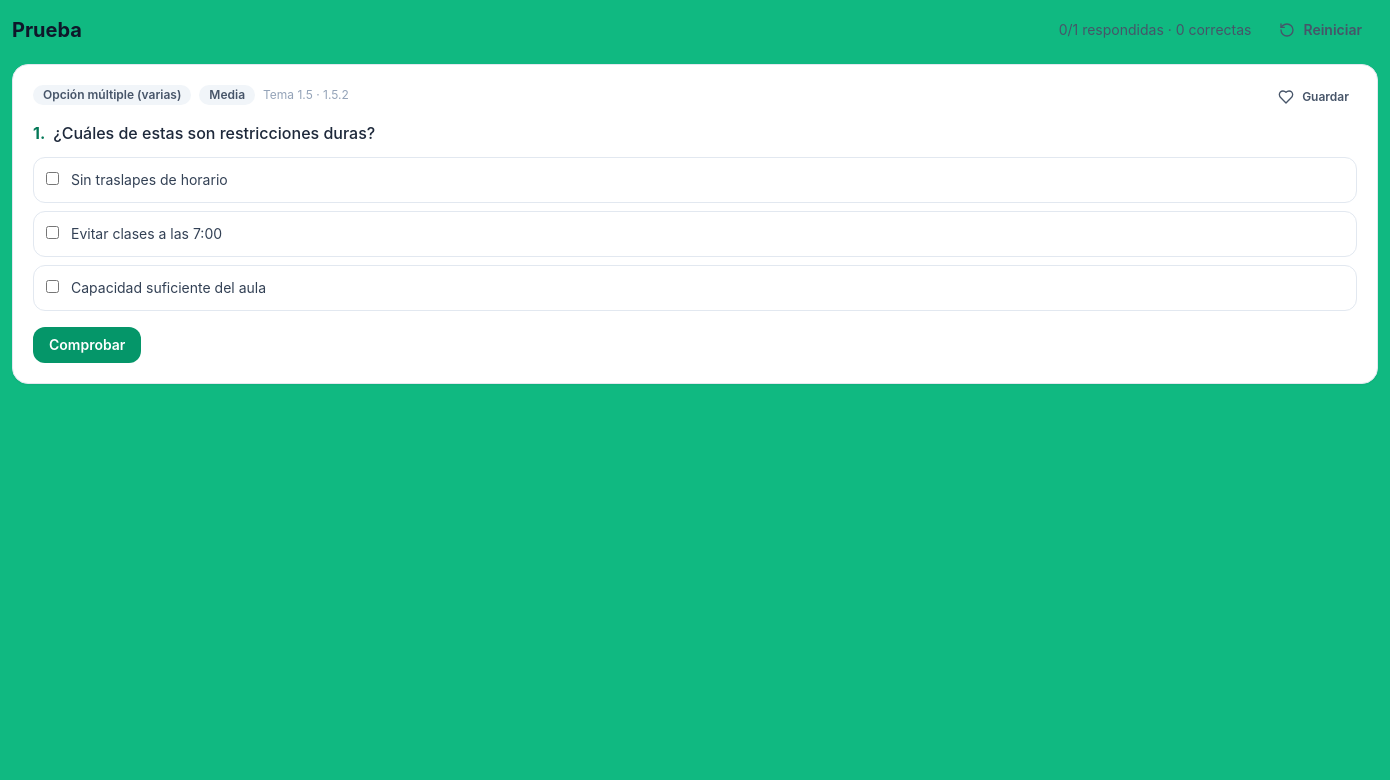
QuizSet › marca la opción que falló sin listar todas las correctas (opción múltiple)
The width and height of the screenshot is (1390, 780).
Click the checkbox labelled "Sin traslapes de horario" at (52,178), box [46,172,59,185]
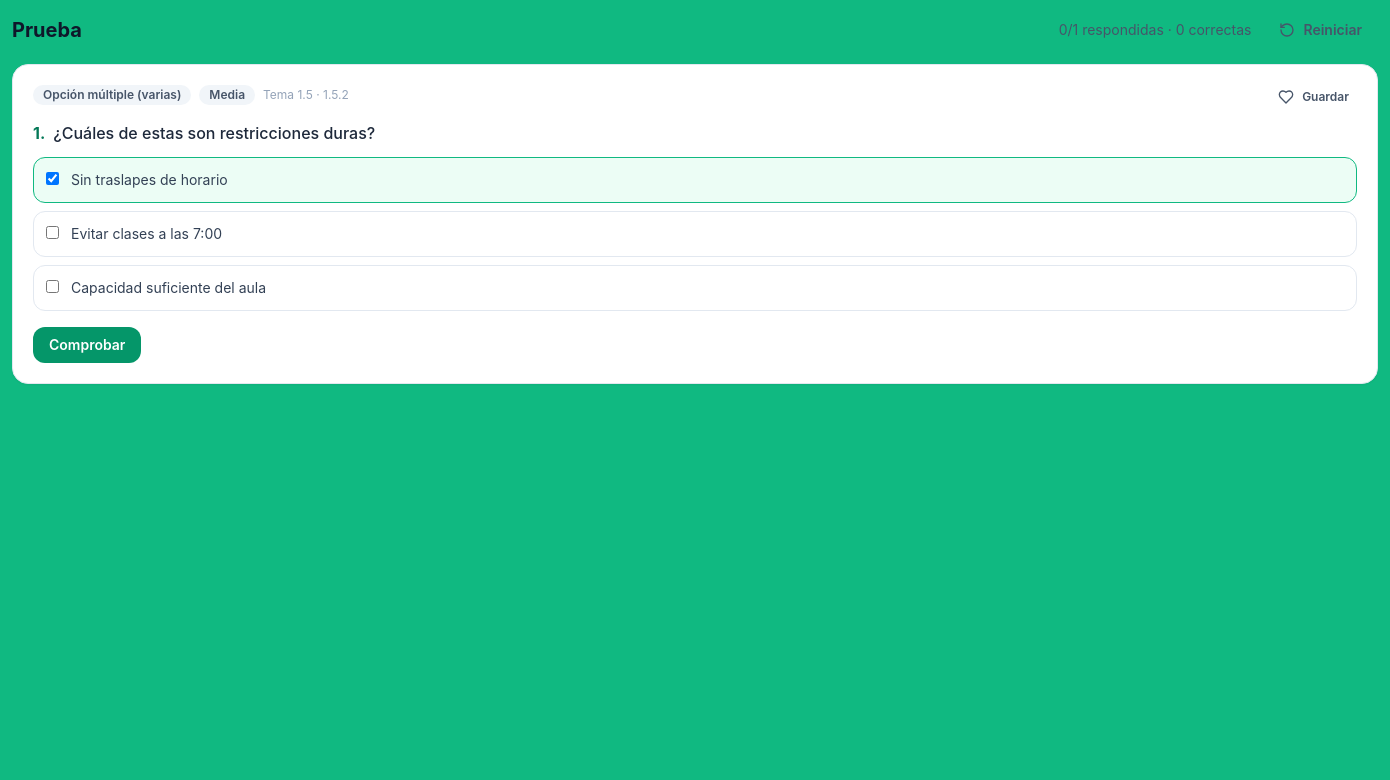
Click the checkbox labelled "Evitar clases a las 7:00" at (52,232), box [46,226,59,239]
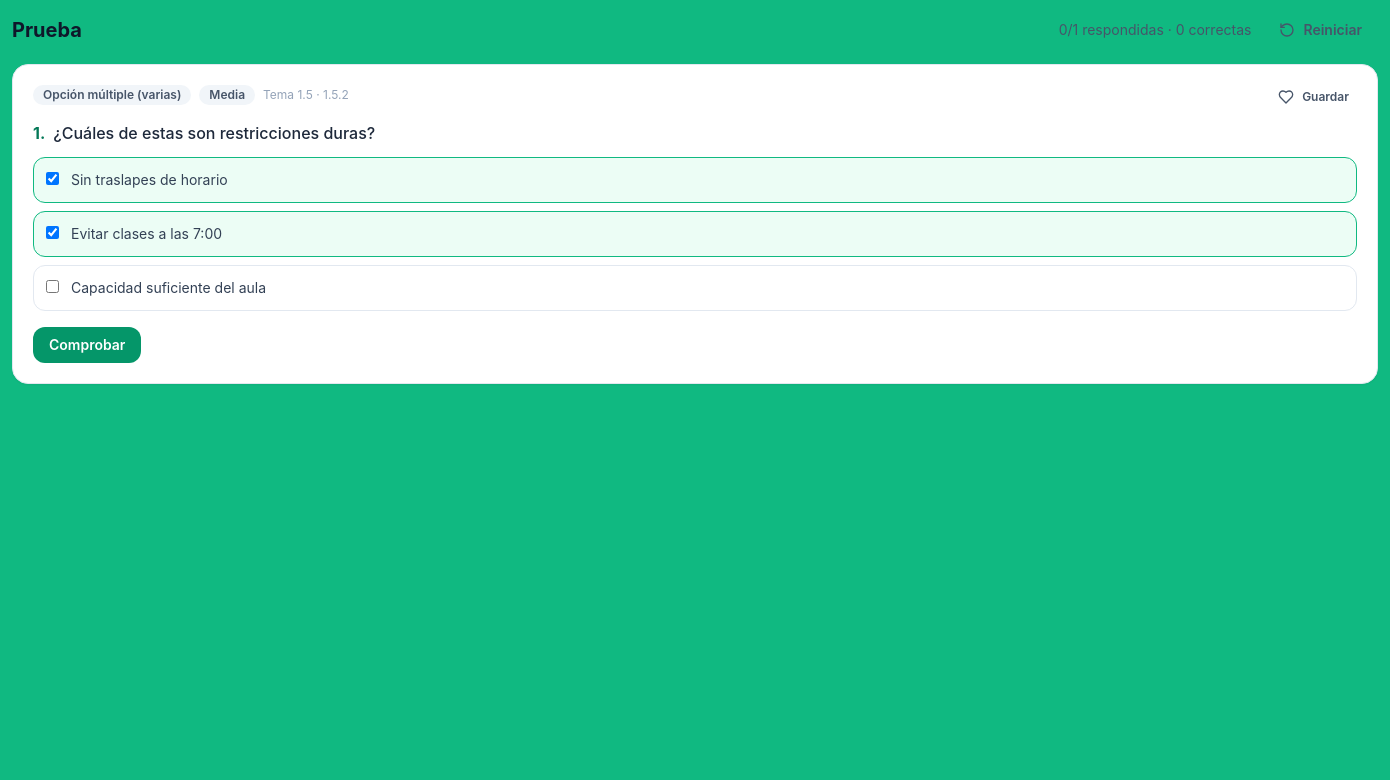
Click the button "Comprobar" at (87,345), box [33,327,141,363]
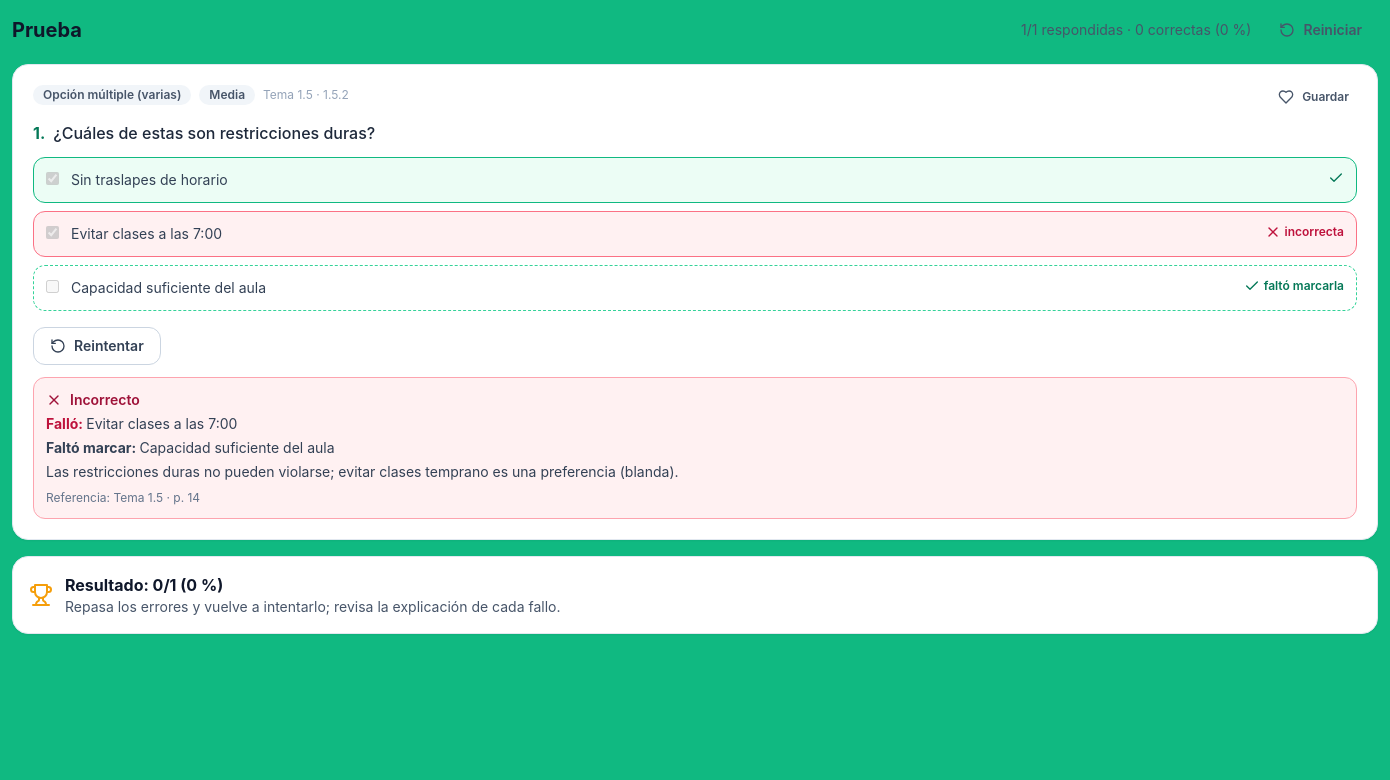
Check: the text "Falló:" is shown, box [46,415,86,432]
Check: the text "incorrecta" is shown, box [1285,224,1344,240]
Check: the text "Faltó marcar:" is shown, box [46,439,140,456]
